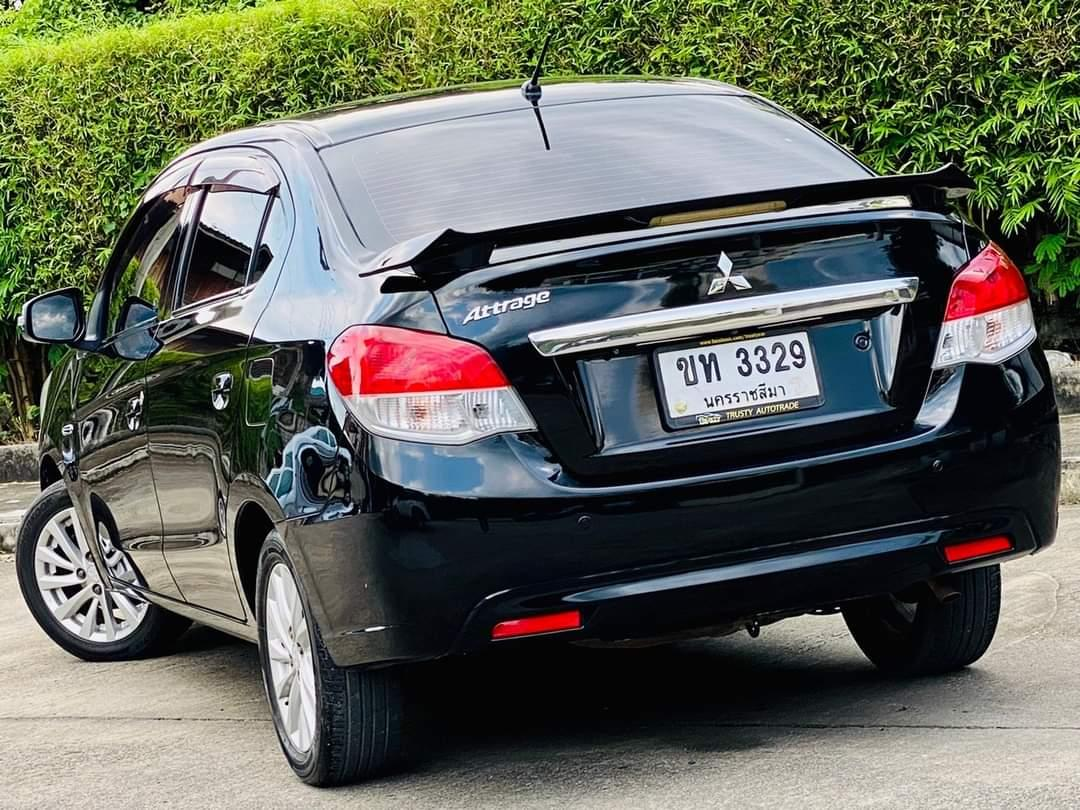license-plate: (645, 322, 835, 433)
